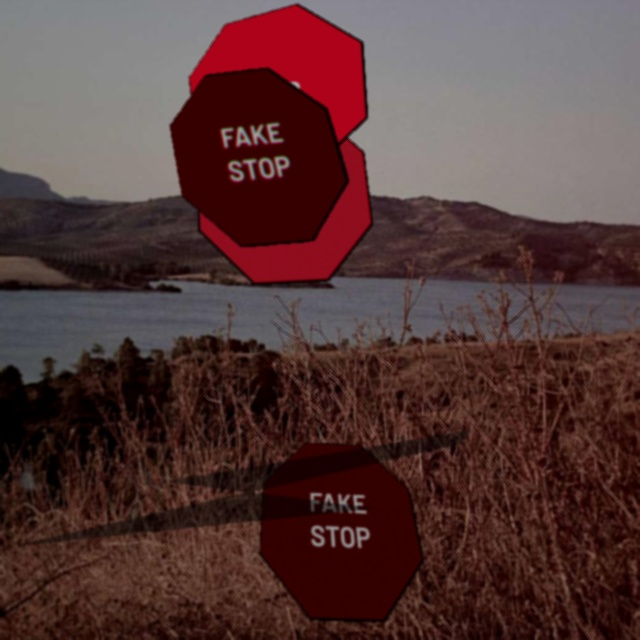FAKE_STOP: (169, 67, 349, 247), (259, 442, 424, 622)
STOP: (196, 105, 373, 285), (188, 3, 368, 173)
